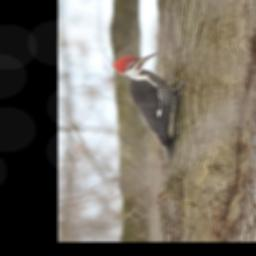Woodpecker: (111, 52, 190, 170)
